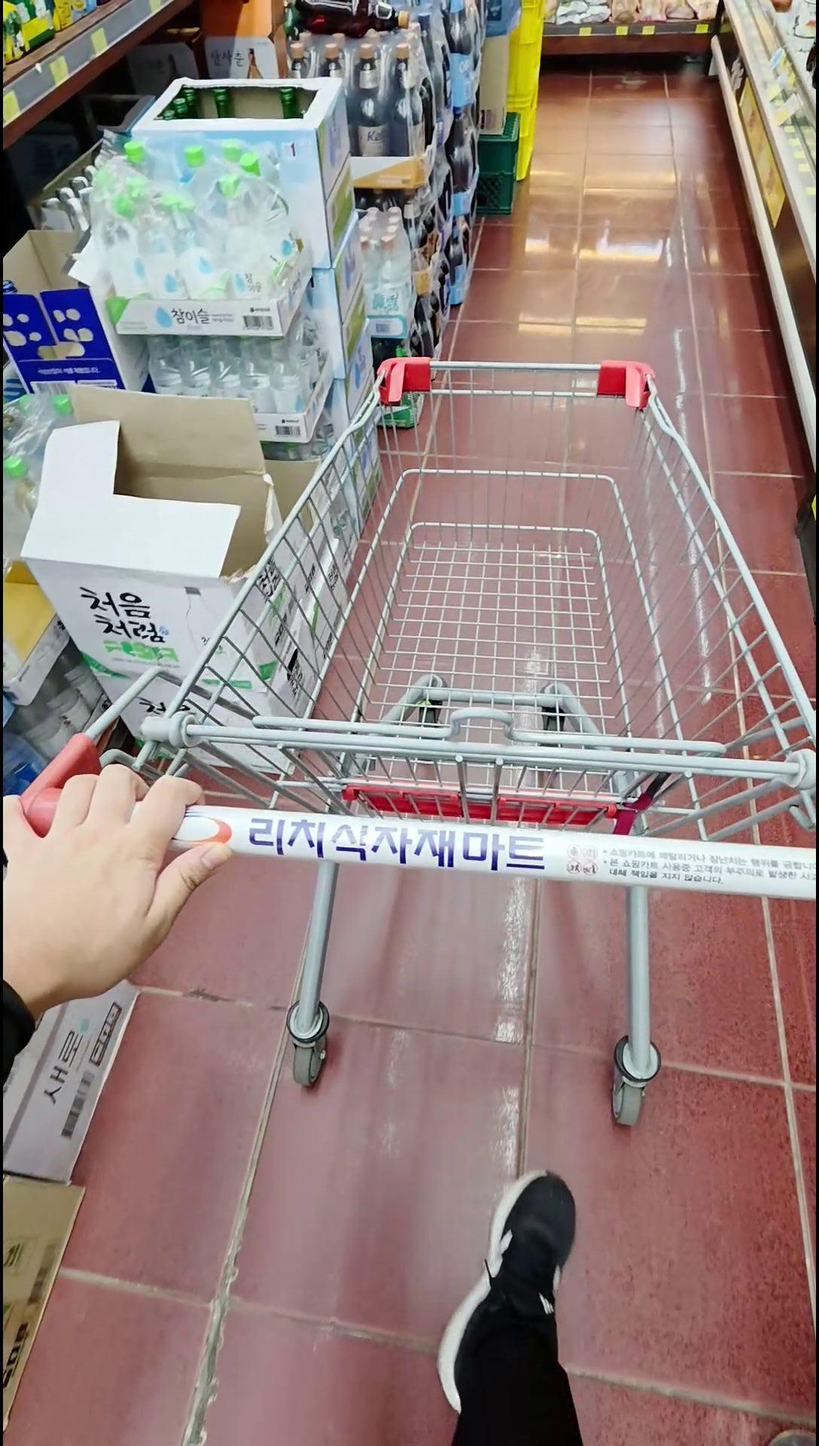empty_cart: (0, 347, 818, 1117)
